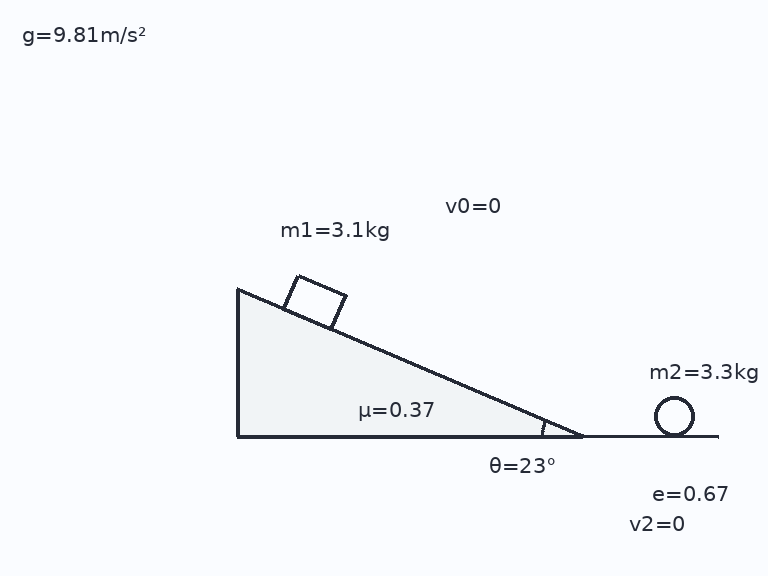ball: (652, 394, 696, 438)
block: (281, 273, 347, 331)
ramp: (235, 287, 584, 438)
